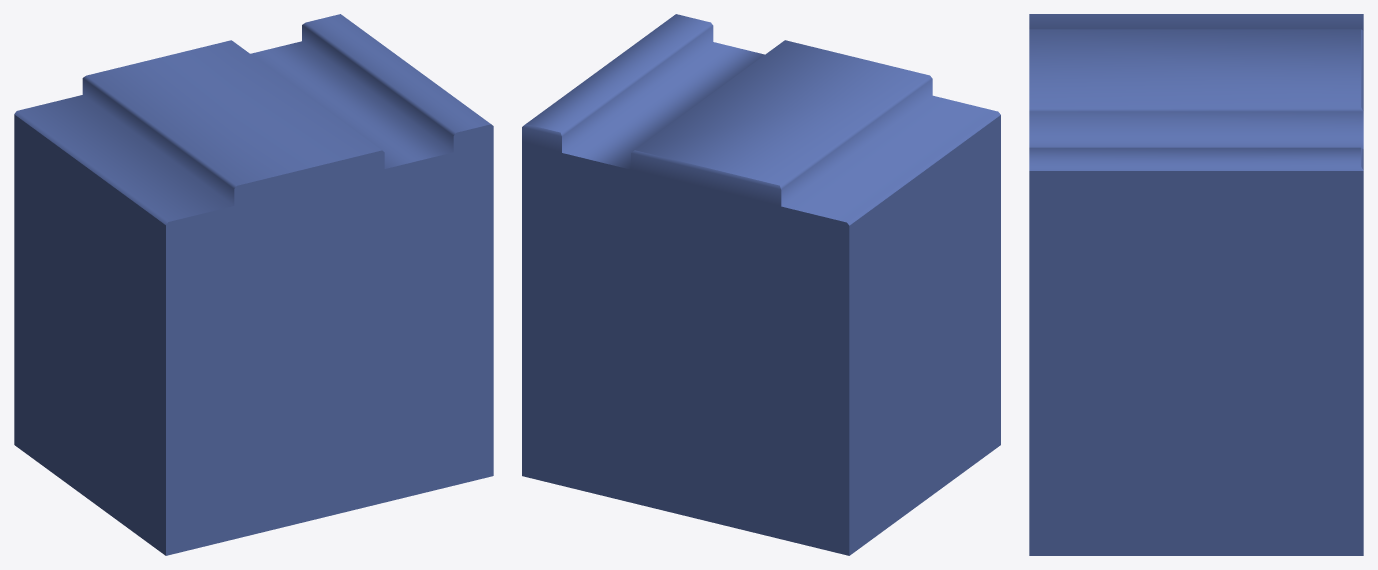
File: Books_A.FBX
3 views of the same model, side by side, from view 1: azimuth 30°, elevation 25°; view 2: azimuth 150°, elevation 25°; view 3: azimuth 270°, elevation 25° (orthographic). The views are drawn at different scales.
Visible parts, largest first — view 1: Books_A; view 2: Books_A; view 3: Books_A.
Part boxes in pixels (x1,y1,x2,y2): Books_A: [14, 14, 493, 555]; Books_A: [522, 14, 1000, 555]; Books_A: [1029, 14, 1363, 555].
Bounding box in the file's own units: 25.88 × 26.61 × 20.75.
